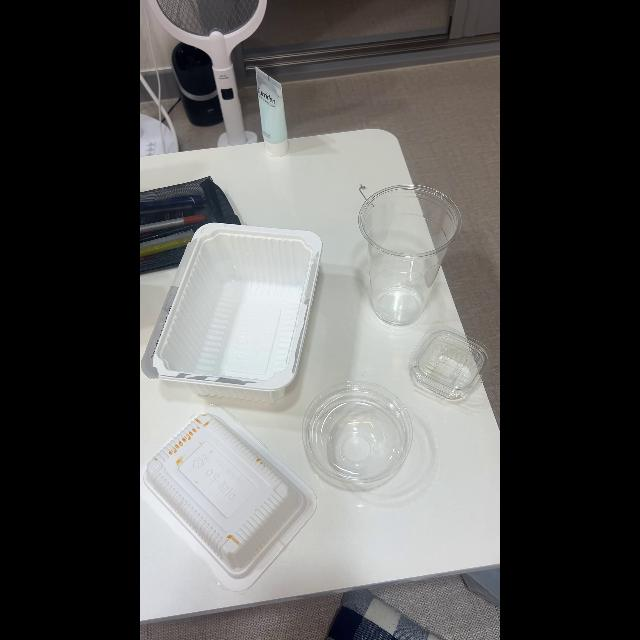clean: (144, 228, 324, 396), (358, 185, 462, 325), (303, 382, 413, 484), (409, 326, 491, 398)
dirty: (146, 414, 302, 570)
